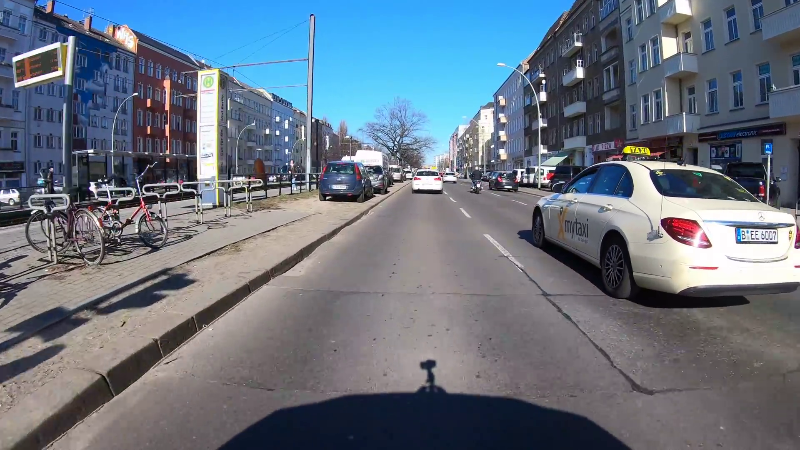Plate: (733, 225, 779, 244)
